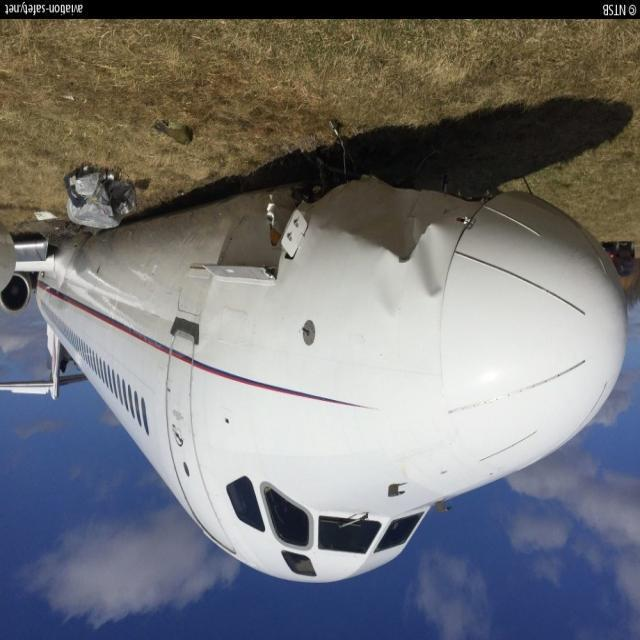dent: (415, 227, 449, 297), (379, 255, 405, 316)
